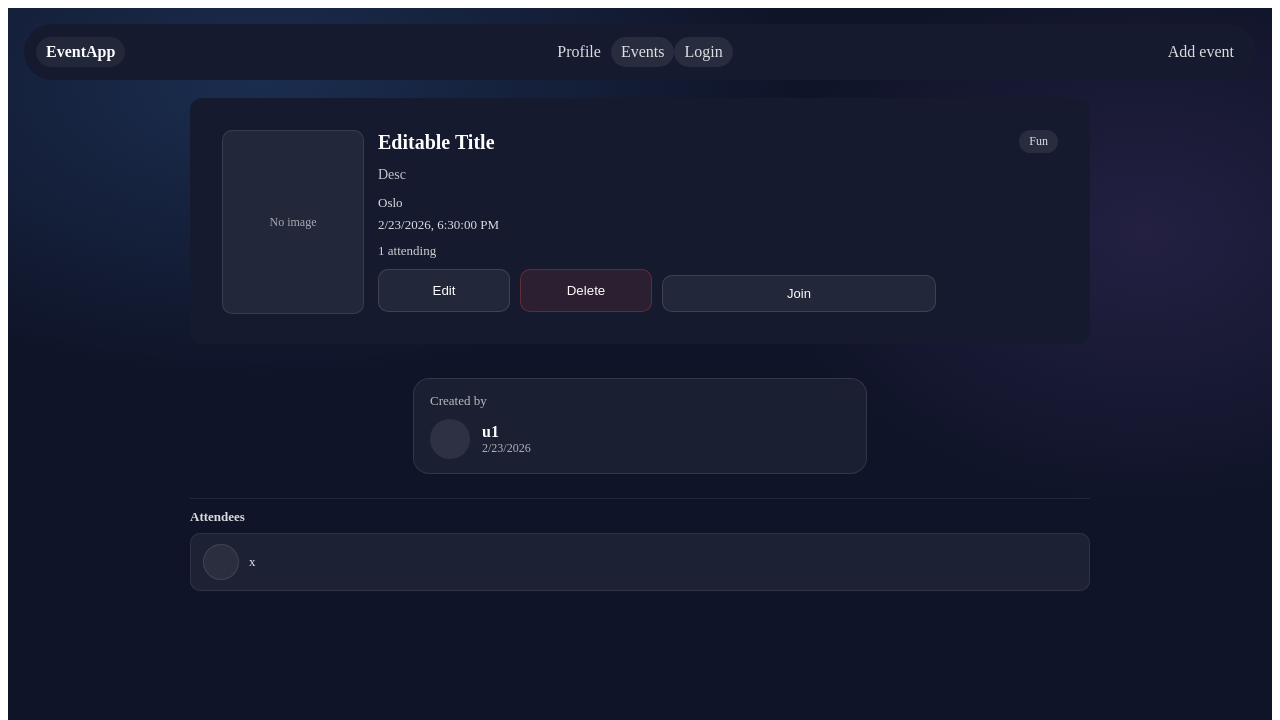
Test: EventPage › owner admin can enter edit mode, then cancel
This screenshot has width=1280, height=720.
Expected: the heading "Editable Title" is shown, [378,131,494,153]
Click the button "Edit" at (444, 290), box [378,269,510,312]
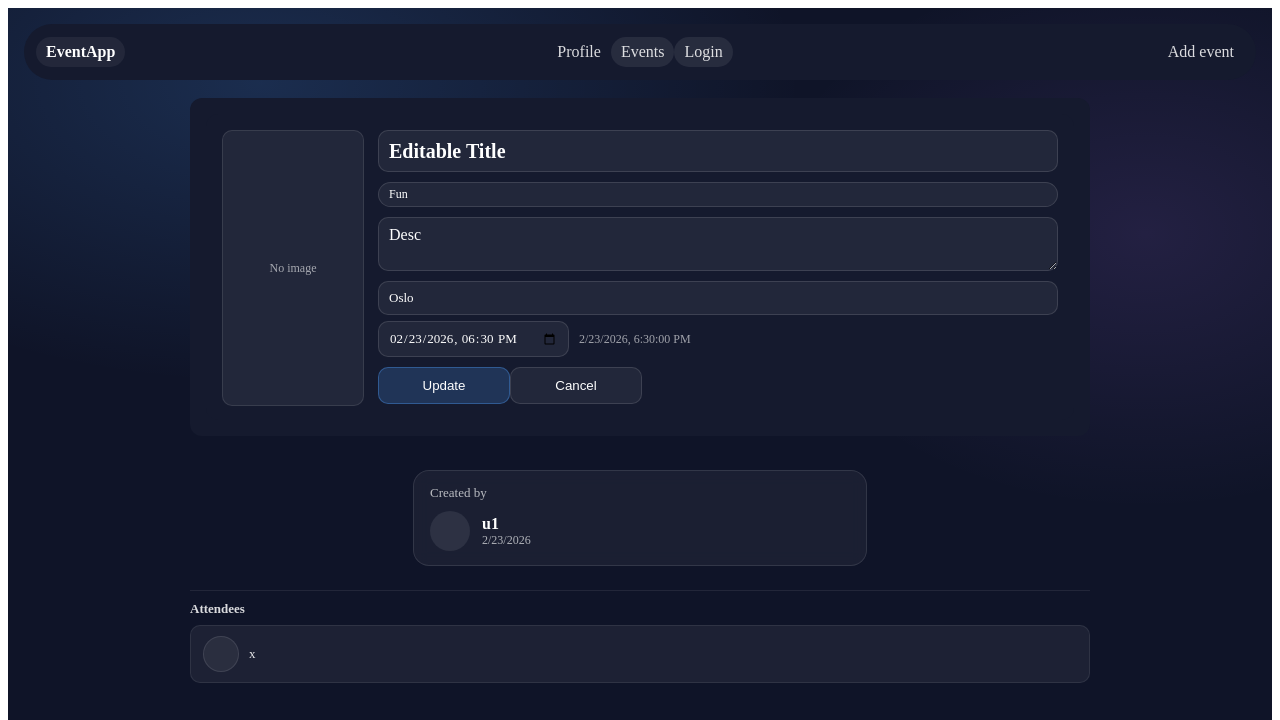
Result: the button "Update" is shown at [378,367,510,404]
Result: the button "Cancel" is shown
Result: the text "attending" is gone
Click the button "Cancel" at (576, 386), box [510,367,642,404]
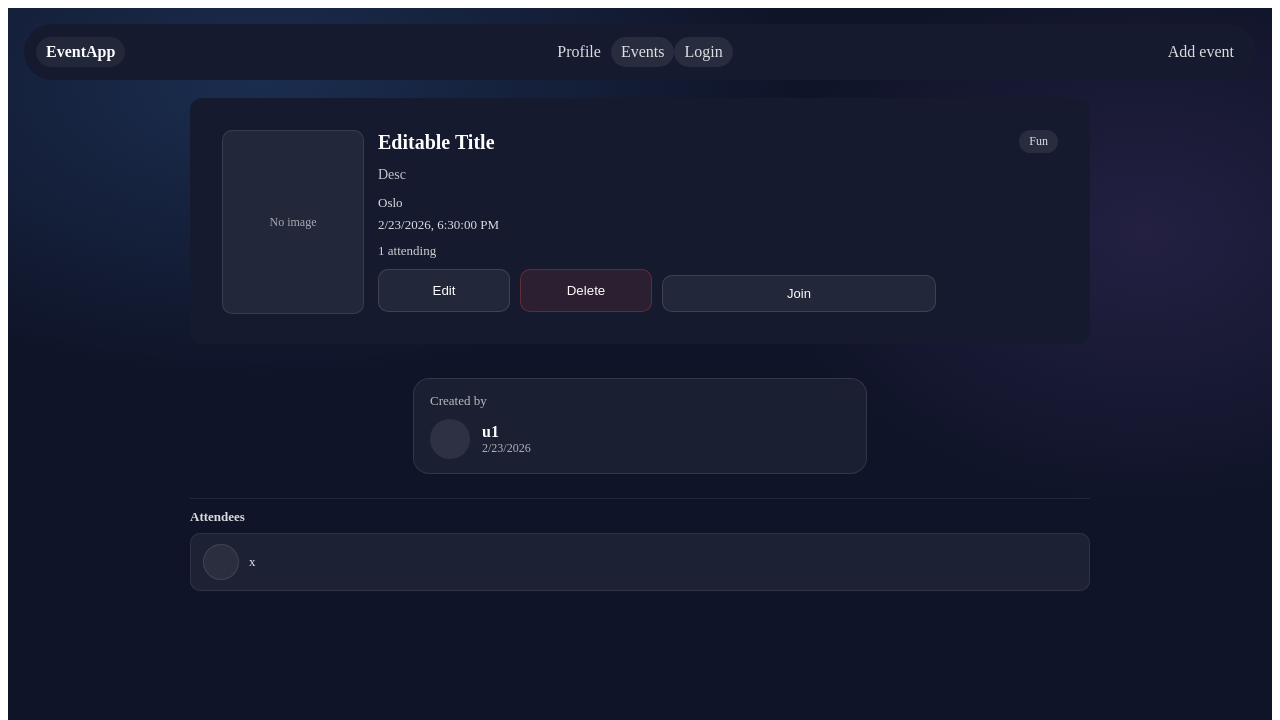
Result: the heading "Editable Title" is shown at [378,131,494,153]
Result: the text "1 attending" is shown at [378,243,436,258]
